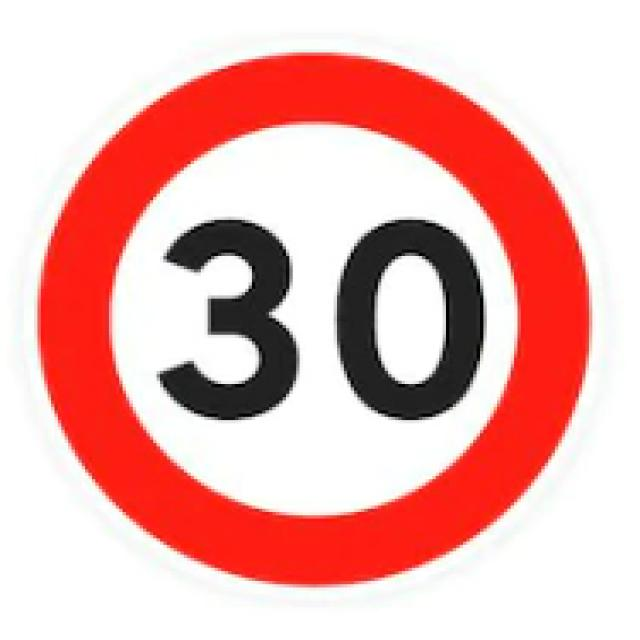Speed Limit -30-: (151, 218, 486, 422)
